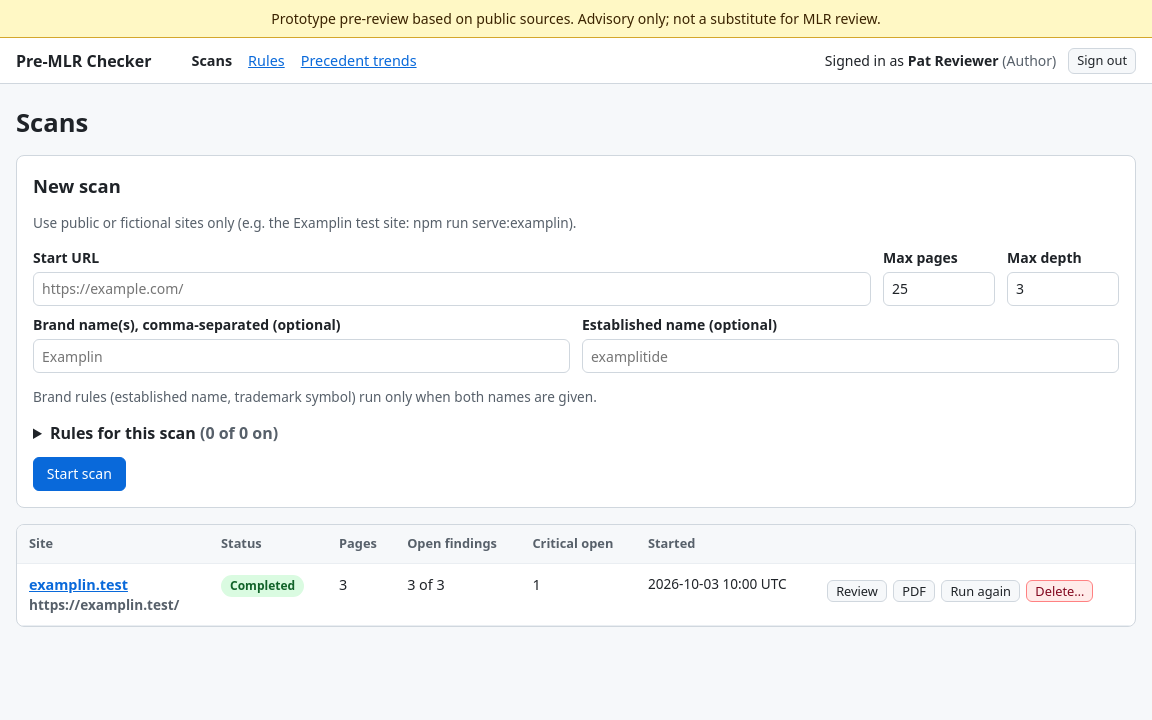
it: Scans page › row actions › shows why a delete was refused
Click the button with aria-label "Delete the examplin.test scan" at (1060, 591), box top-left (1026, 580), bottom-right (1093, 602)
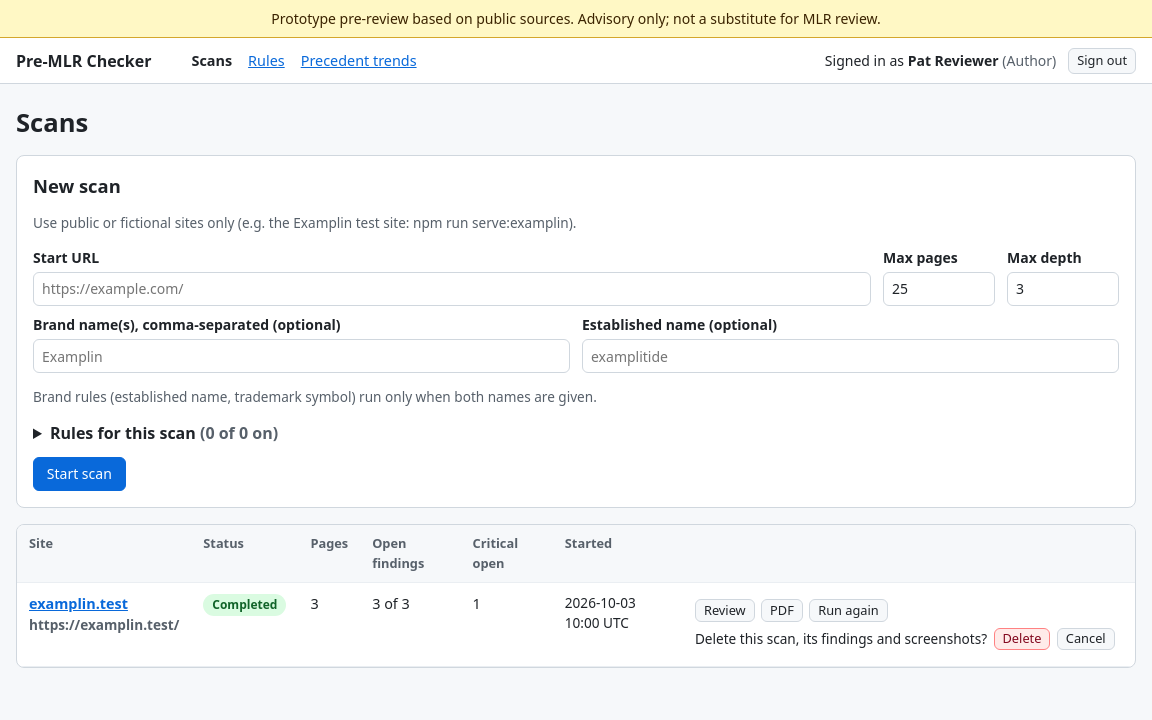
Click the button "Delete" at (1022, 639), box top-left (994, 628), bottom-right (1050, 650)
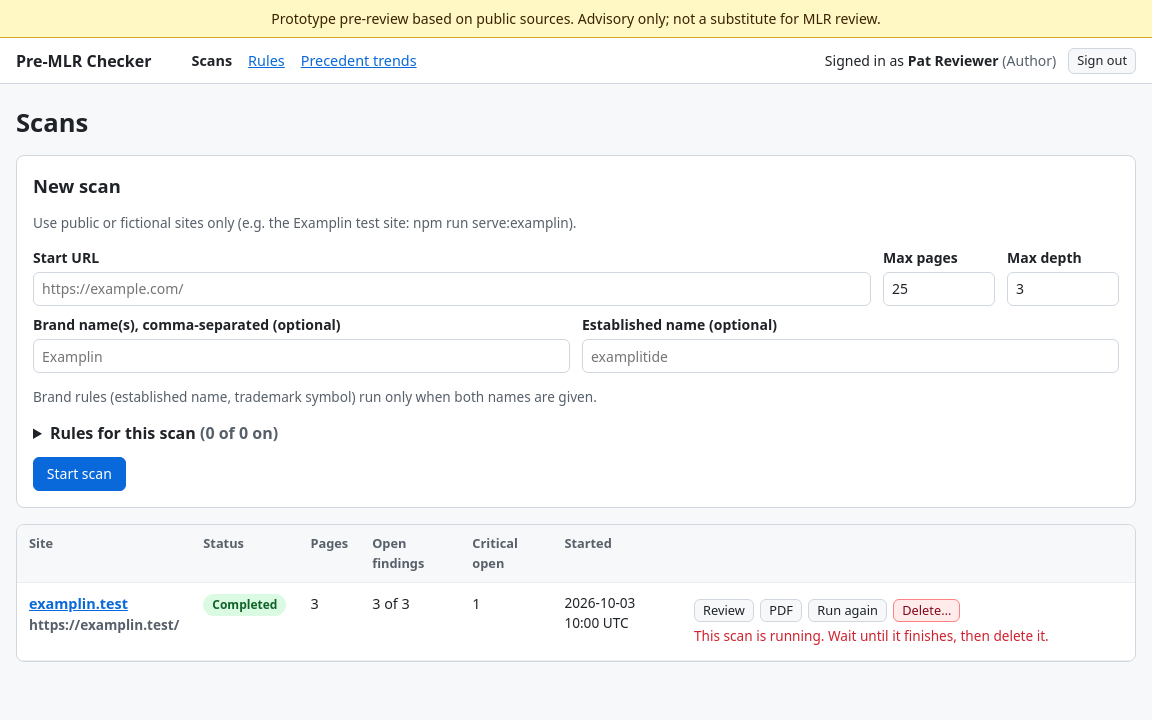
Now the message shows "This scan is running", box top-left (694, 626), bottom-right (1049, 645)
